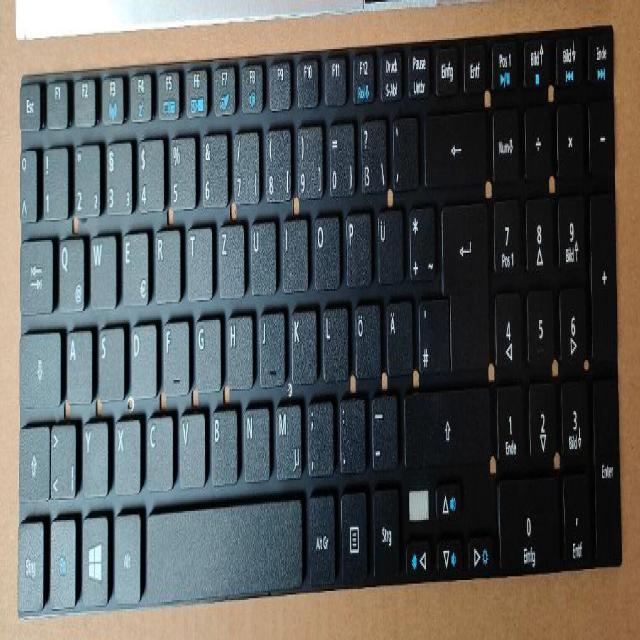0: (328, 122, 355, 196)
1: (43, 147, 68, 218)
2: (74, 144, 101, 216)
3: (105, 140, 132, 215)
4: (138, 136, 164, 211)
5: (170, 135, 196, 209)
6: (202, 133, 228, 207)
7: (234, 131, 260, 204)
8: (265, 127, 290, 202)
9: (297, 122, 323, 200)
a: (65, 329, 92, 404)
accent: (392, 114, 418, 191)
ae: (386, 298, 412, 375)
alt-left: (114, 513, 140, 604)
altgr-right: (308, 495, 335, 587)
b: (211, 408, 237, 486)
c: (146, 411, 173, 491)
caret: (18, 146, 37, 224)
comma: (307, 398, 334, 478)
d: (131, 322, 157, 398)
del: (423, 111, 489, 189)
e: (122, 229, 148, 306)
enter: (452, 202, 489, 371)
f: (162, 320, 190, 395)
g: (195, 316, 221, 391)
h: (227, 315, 253, 387)
hash: (418, 298, 449, 373)
i: (282, 216, 308, 291)
j: (259, 309, 285, 386)
k: (291, 307, 318, 382)
keyboard: (16, 22, 622, 620)
l: (323, 307, 349, 380)
less: (51, 422, 76, 498)
m: (275, 400, 302, 480)
minus: (371, 395, 399, 473)
n: (244, 404, 270, 482)
o: (313, 213, 340, 291)
oe: (356, 302, 381, 380)
p: (346, 211, 372, 287)
plus: (409, 204, 435, 287)
point: (339, 395, 366, 475)
q: (58, 236, 84, 311)
r: (154, 227, 181, 304)
s: (98, 326, 124, 398)
shift-left: (18, 424, 47, 498)
shift-lock: (19, 333, 60, 405)
shift-right: (403, 389, 491, 469)
space: (145, 500, 303, 595)
ss: (361, 118, 386, 195)
strg-left: (17, 520, 43, 611)
strg-right: (373, 491, 403, 580)
t: (187, 224, 212, 300)
tab: (18, 236, 53, 313)
u: (250, 217, 276, 297)
ue: (378, 208, 404, 286)
v: (179, 411, 205, 487)
w: (90, 233, 116, 311)
x: (114, 417, 140, 495)
y: (81, 419, 108, 497)
z: (218, 222, 244, 298)
